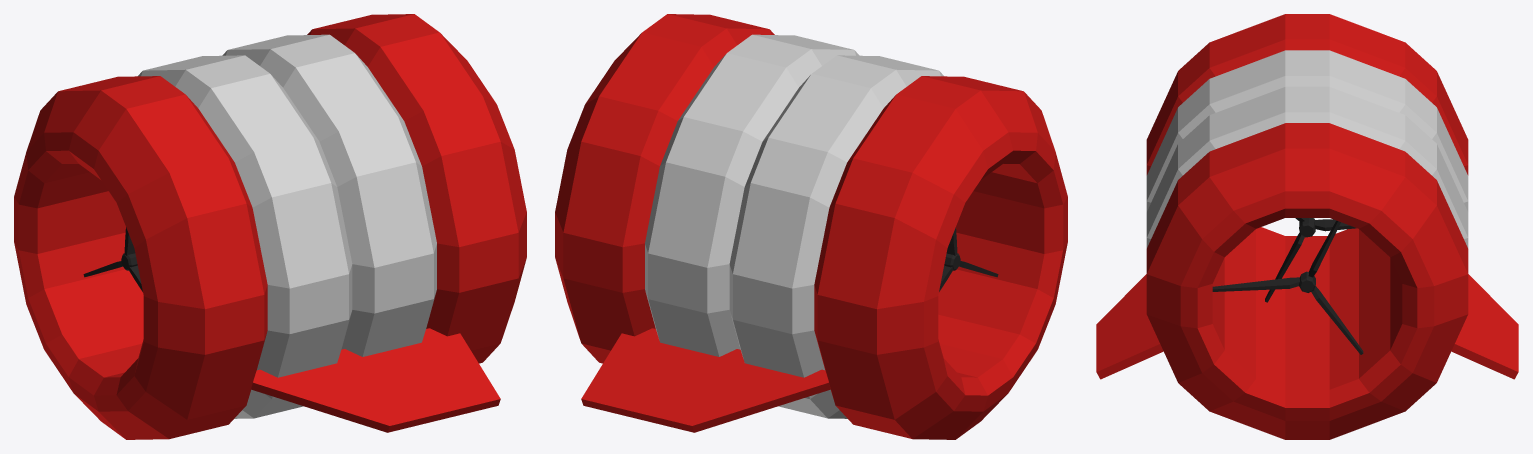
Rendered from TurbineAir 1.fbx.
3 views of the same model, side by side, from view 1: azimuth 30°, elevation 25°; view 2: azimuth 150°, elevation 25°; view 3: azimuth 270°, elevation 25° (orthographic). The views are drawn at different scales.
Parts seen in each view (by area): view 1: airturbine_body, airturbine_fan3; view 2: airturbine_body, airturbine_fan3; view 3: airturbine_body, airturbine_fan1, airturbine_fan2.
Boxes of the visible parts, x1,y1,x2,y2 form: airturbine_body: [14, 14, 526, 439]; airturbine_fan3: [83, 227, 142, 291]; airturbine_body: [555, 14, 1067, 439]; airturbine_fan3: [939, 227, 998, 291]; airturbine_body: [1096, 14, 1518, 439]; airturbine_fan1: [1212, 220, 1363, 354]; airturbine_fan2: [1265, 218, 1356, 302].
Size of the model in its own units: 2549 by 2131 by 2799.
